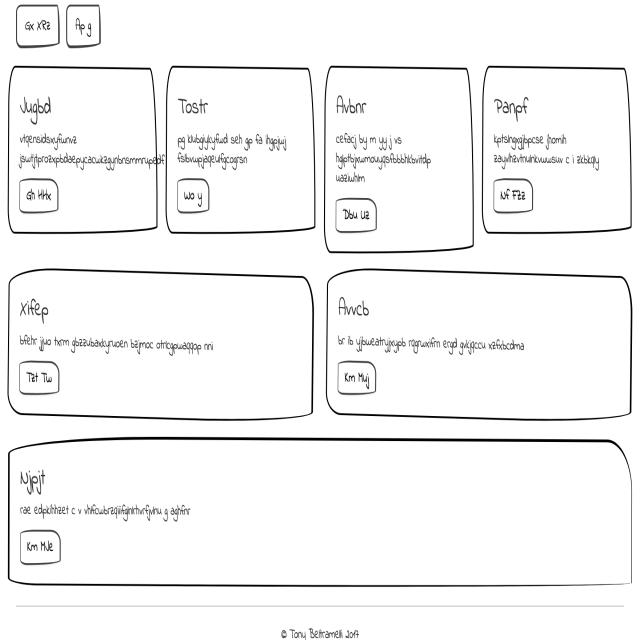Button: (492, 177, 539, 225), (17, 181, 66, 224), (332, 197, 383, 236), (18, 530, 69, 564), (18, 360, 66, 396), (168, 181, 212, 218), (339, 364, 374, 393)
Card: (3, 439, 631, 581), (318, 268, 634, 428), (7, 266, 310, 428), (0, 61, 161, 232), (481, 61, 633, 242), (332, 59, 469, 255), (170, 68, 318, 235)
Heading 6: (17, 292, 65, 329), (176, 84, 219, 118), (335, 285, 379, 318), (492, 87, 534, 120), (20, 93, 71, 118), (333, 92, 375, 122), (16, 464, 50, 491)
Navigation Bar: (10, 6, 113, 54)
Paragraph: (16, 323, 218, 362), (13, 122, 154, 177), (332, 322, 536, 356), (489, 121, 614, 174), (13, 490, 205, 523), (330, 129, 441, 183), (169, 132, 302, 168)
